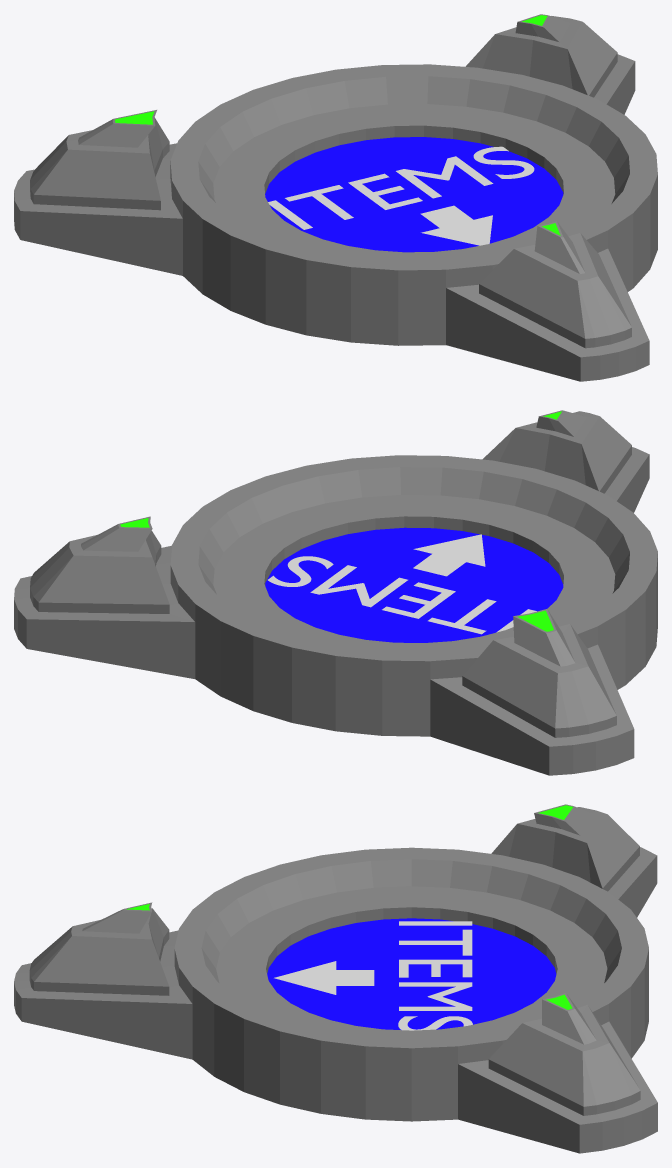
The model's file is Teleporter.glb.
The picture shows the model from 3 angles, top to bottom: view 1: azimuth 30°, elevation 25°; view 2: azimuth 150°, elevation 25°; view 3: azimuth 270°, elevation 25°; orthographic projection. The views are drawn at different scales.
Visible parts, largest first — view 1: Cylinder, ITEMS, Plane; view 2: Cylinder, ITEMS, Plane; view 3: Cylinder, ITEMS, Plane.
Boxes of the visible parts, x1,y1,x2,y2 form: Cylinder: [14, 14, 657, 381]; ITEMS: [268, 146, 534, 229]; Plane: [420, 205, 492, 245]; Cylinder: [14, 410, 657, 775]; ITEMS: [268, 556, 536, 634]; Plane: [413, 534, 485, 576]; Cylinder: [14, 804, 657, 1153]; ITEMS: [398, 921, 472, 1030]; Plane: [274, 961, 374, 994].
Size of the model in its own units: 1.95 by 0.3596 by 1.82.
